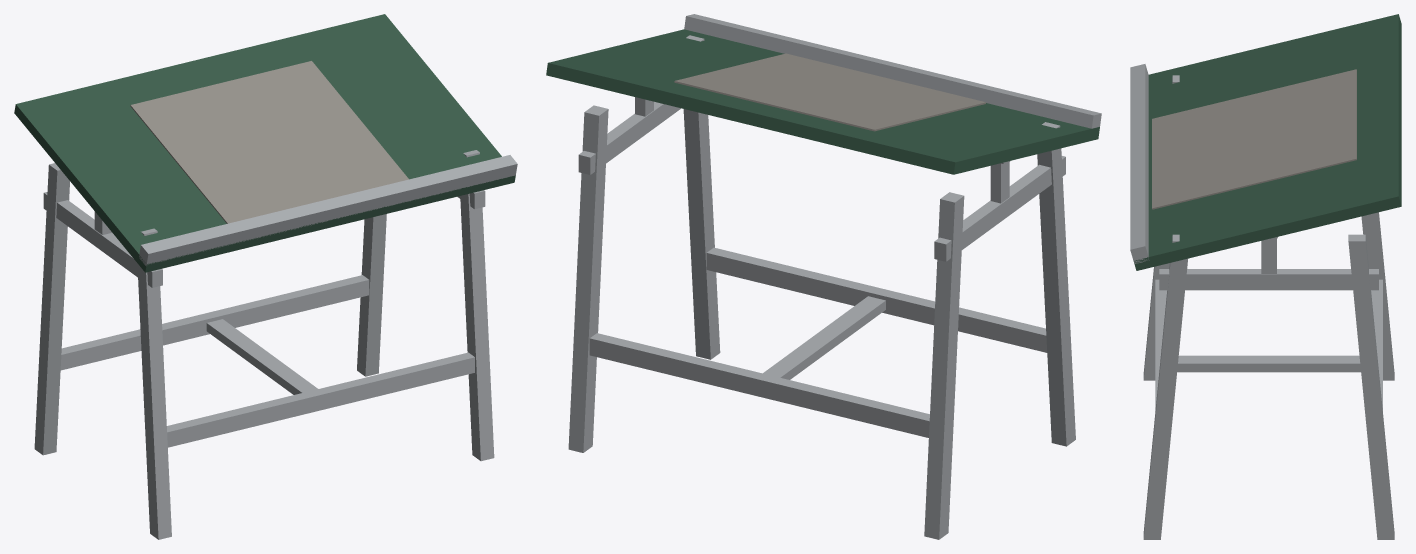
Rendered from FN_Table_Drafting.obj.
The picture shows the model from 3 angles, left to right: view 1: azimuth 30°, elevation 25°; view 2: azimuth 150°, elevation 25°; view 3: azimuth 270°, elevation 25°; orthographic projection. The views are drawn at different scales.
Parts seen in each view (by area): view 1: FN_Table_Drafting; view 2: FN_Table_Drafting; view 3: FN_Table_Drafting.
Boxes of the visible parts, x1,y1,x2,y2 form: FN_Table_Drafting: (14,14,517,539); FN_Table_Drafting: (546,14,1101,539); FN_Table_Drafting: (1130,14,1401,539).
Size of the model in its own units: 1.1 by 0.9896 by 0.6922.
1 material, 1 textured.
